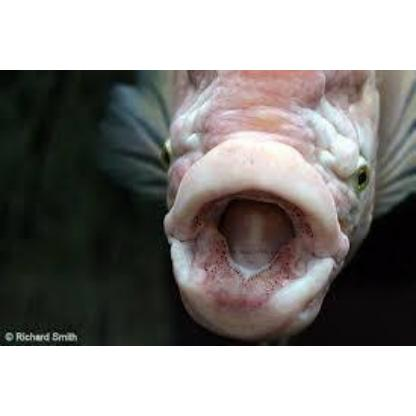gurame: (106, 68, 414, 336)
